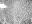person: (1, 3, 6, 10)
